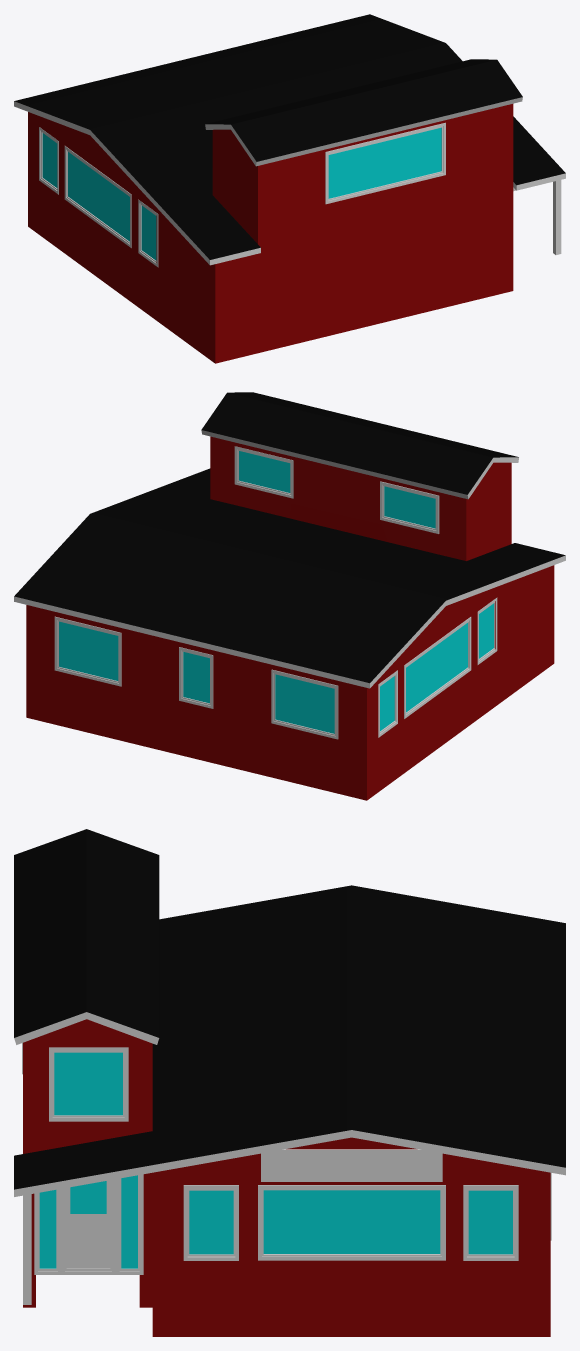
Rendered from Police Department.fbx.
3 views of the same model, one above another, from view 1: azimuth 30°, elevation 25°; view 2: azimuth 150°, elevation 25°; view 3: azimuth 270°, elevation 25° (orthographic). The views are drawn at different scales.
Visible parts, largest first — view 1: Building, Large_Roof, Small_roof, polySurface25, polySurface31, polySurface30, polySurface29, pCube1; view 2: Building, Large_Roof, Small_roof, polySurface31, polySurface32, polySurface22, polySurface35, polySurface24, polySurface33, polySurface30, polySurface29; view 3: Large_Roof, Building, Small_roof, polySurface21, polySurface23, Sign, polySurface20, polySurface5, polySurface28, polySurface27, polySurface34, pCube1.
Part boxes in pixels (x1=…): Building: x1=28, y1=104, x2=513, y2=363; Large_Roof: x1=14, y1=14, x2=565, y2=265; Small_roof: x1=205, y1=59, x2=522, y2=166; polySurface25: x1=325, y1=122, x2=445, y2=204; polySurface31: x1=64, y1=146, x2=131, y2=247; polySurface30: x1=138, y1=199, x2=158, y2=267; polySurface29: x1=39, y1=127, x2=58, y2=194; pCube1: x1=553, y1=180, x2=561, y2=254; Building: x1=26, y1=436, x2=554, y2=800; Large_Roof: x1=14, y1=468, x2=565, y2=688; Small_roof: x1=201, y1=392, x2=518, y2=499; polySurface31: x1=404, y1=617, x2=471, y2=718; polySurface32: x1=271, y1=669, x2=338, y2=739; polySurface22: x1=54, y1=616, x2=121, y2=686; polySurface35: x1=380, y1=481, x2=439, y2=533; polySurface24: x1=234, y1=446, x2=293, y2=498; polySurface33: x1=179, y1=647, x2=213, y2=708; polySurface30: x1=477, y1=597, x2=497, y2=664; polySurface29: x1=378, y1=670, x2=397, y2=737; Large_Roof: x1=14, y1=885, x2=565, y2=1196; Building: x1=23, y1=1019, x2=550, y2=1336; Small_roof: x1=14, y1=829, x2=159, y2=1044; polySurface21: x1=258, y1=1185, x2=445, y2=1260; polySurface23: x1=49, y1=1047, x2=128, y2=1121; Sign: x1=261, y1=1149, x2=442, y2=1181; polySurface20: x1=62, y1=1179, x2=115, y2=1274; polySurface5: x1=183, y1=1185, x2=238, y2=1260; polySurface28: x1=463, y1=1185, x2=518, y2=1260; polySurface27: x1=115, y1=1174, x2=143, y2=1274; polySurface34: x1=34, y1=1188, x2=61, y2=1274; pCube1: x1=23, y1=1200, x2=31, y2=1304.
Bounding box in the file's own units: 33.44 × 19.14 × 31.9.
